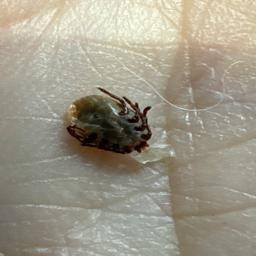Rhipicephalus sanguineus: (63, 87, 152, 154)
